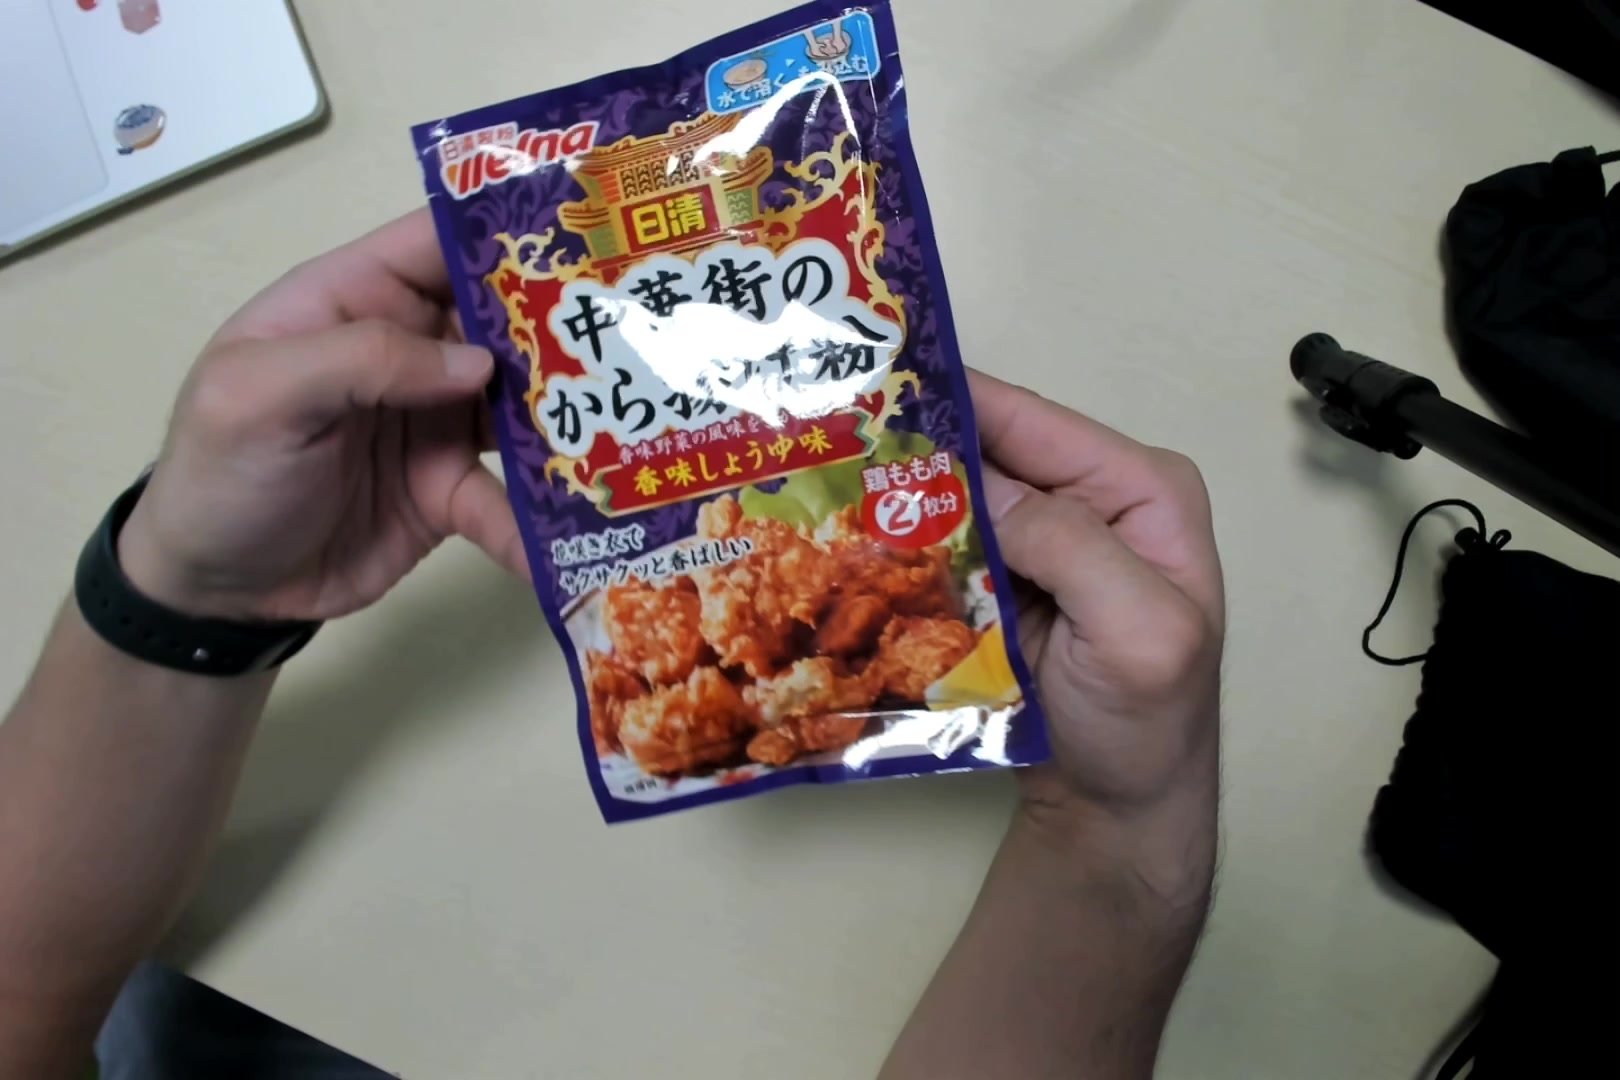OtherBakingNeeds_100-199g_NonHalal_NonHealthy: (411, 1, 1041, 829)
